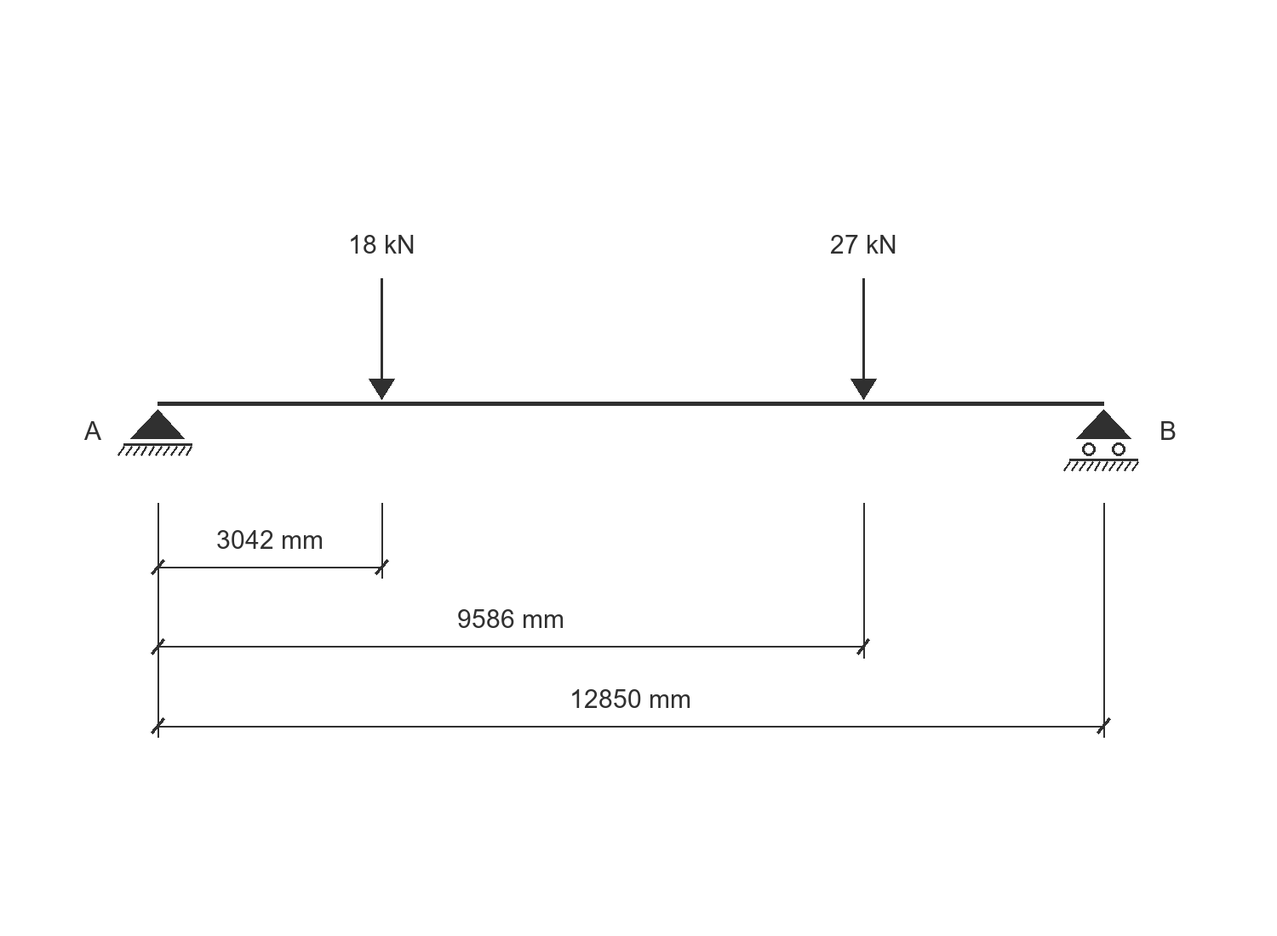pin_support: (117, 409, 192, 456)
point_load: (850, 278, 877, 400), (369, 278, 395, 400)
roller_support: (1063, 409, 1139, 471)
